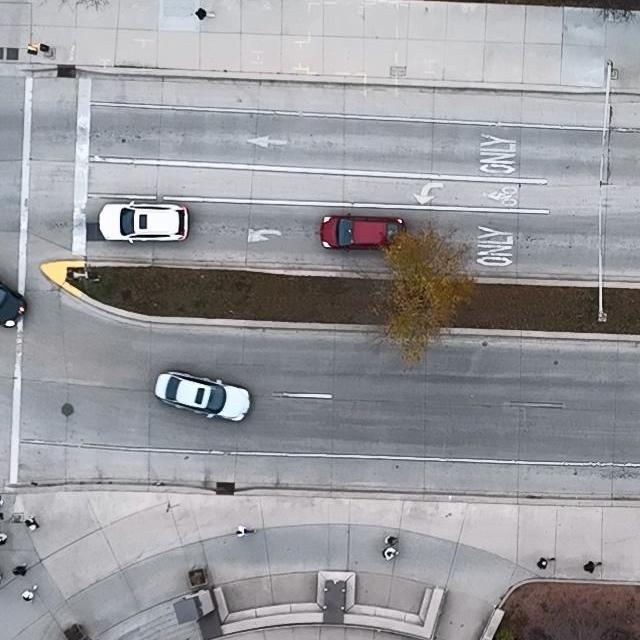car: (153, 371, 251, 421), (98, 199, 191, 244), (318, 213, 407, 253), (0, 279, 27, 327)
